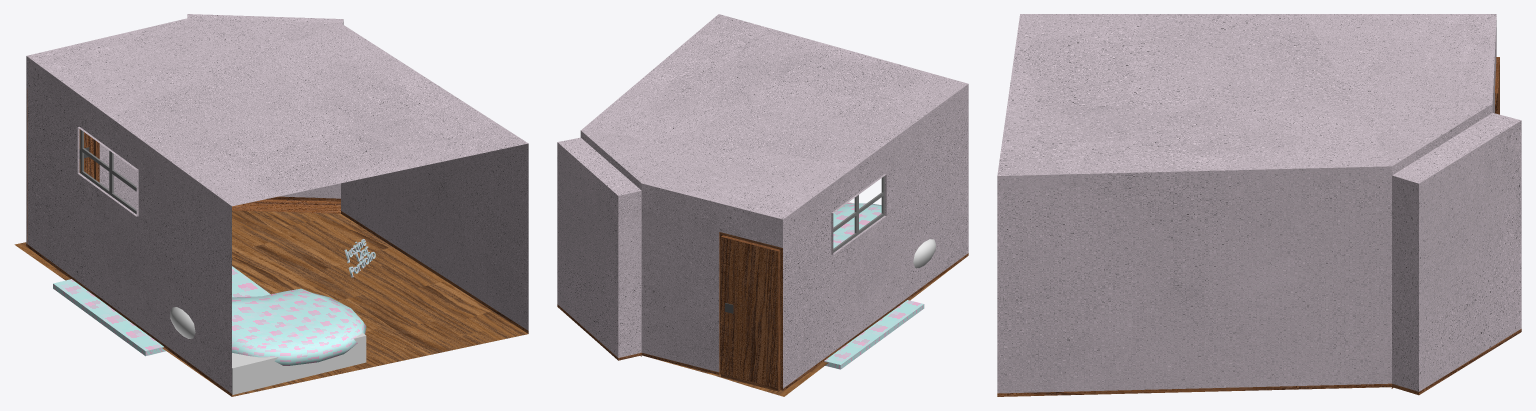
File: Room.glb
3 renders of one model, left to right at view 1: azimuth 30°, elevation 25°; view 2: azimuth 150°, elevation 25°; view 3: azimuth 270°, elevation 25°, orthographic. The views are drawn at different scales.
Visible parts, largest first — view 1: ROOM, ROOM.001, Cube.003, Bed, Cube.002, Window, Cube.012; view 2: ROOM, Cube.002, Cube.003, Window, ROOM.001, Cube.012; view 3: ROOM.
Part boxes in pixels (<box>): ROOM: <box>26,14,528,396</box>; ROOM.001: <box>14,210,527,396</box>; Cube.003: <box>232,288,366,365</box>; Bed: <box>232,332,366,394</box>; Cube.002: <box>53,266,270,356</box>; Window: <box>80,129,136,214</box>; Cube.012: <box>170,307,195,338</box>; ROOM: <box>557,14,968,391</box>; Cube.002: <box>824,300,924,369</box>; Cube.003: <box>833,203,881,248</box>; Window: <box>833,176,884,252</box>; ROOM.001: <box>648,258,964,396</box>; Cube.012: <box>913,239,935,267</box>; ROOM: <box>997,14,1521,396</box>.
Size of the model in its own units: 10.58 by 6.46 by 13.57.
Materials: 7 (4 with a texture image).
